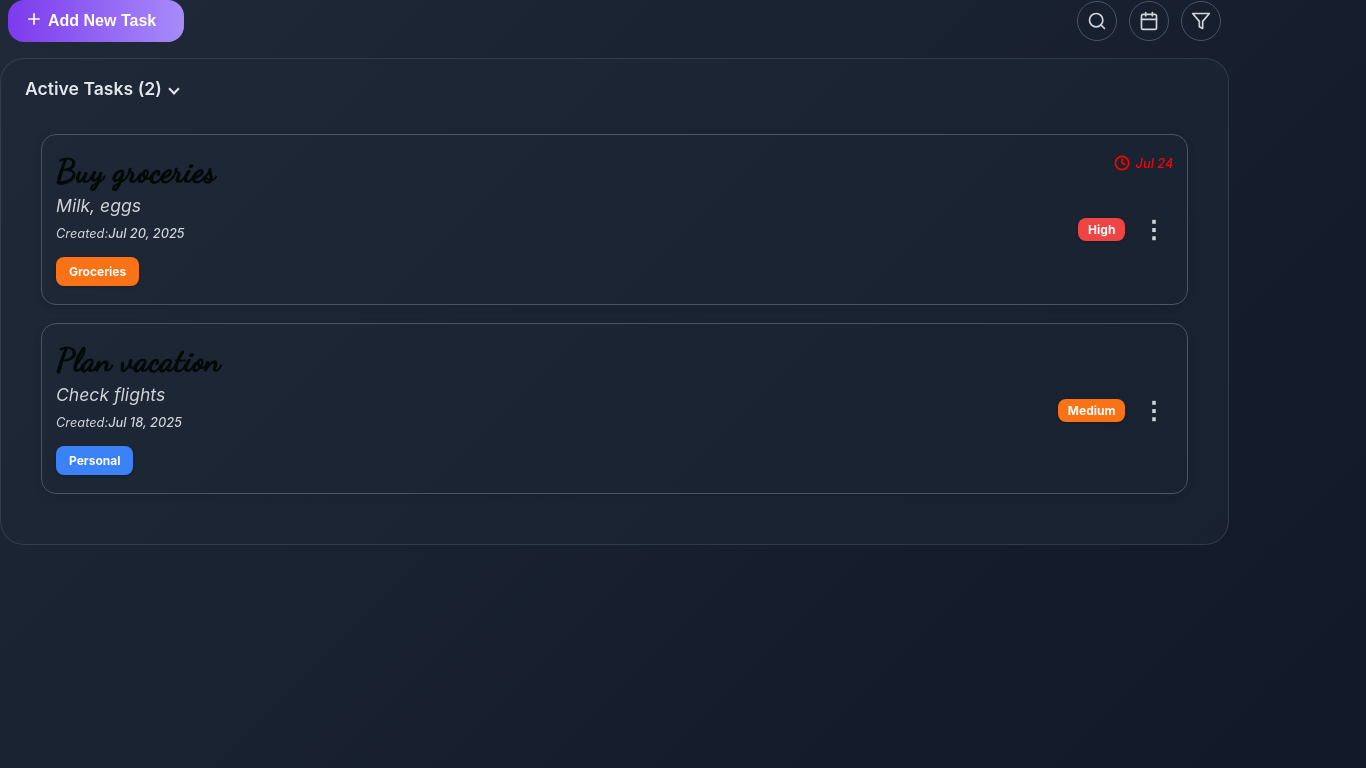
Test: TodoList › filters tasks by search term
Click the 2nd button at (1097, 21), box 1077,1 -> 1117,41
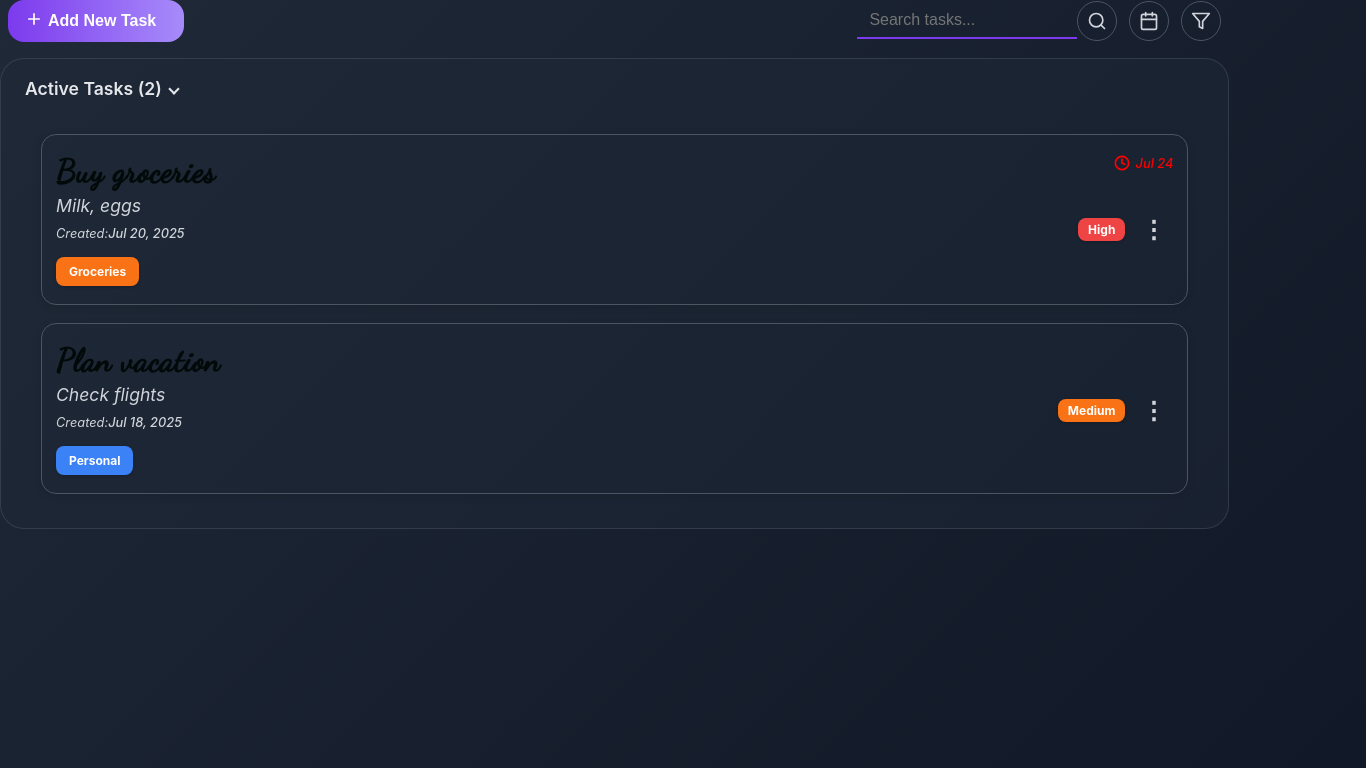
Type "vacation" into the field with placeholder "Search tasks..." at (967, 21), box 857,3 -> 1077,39
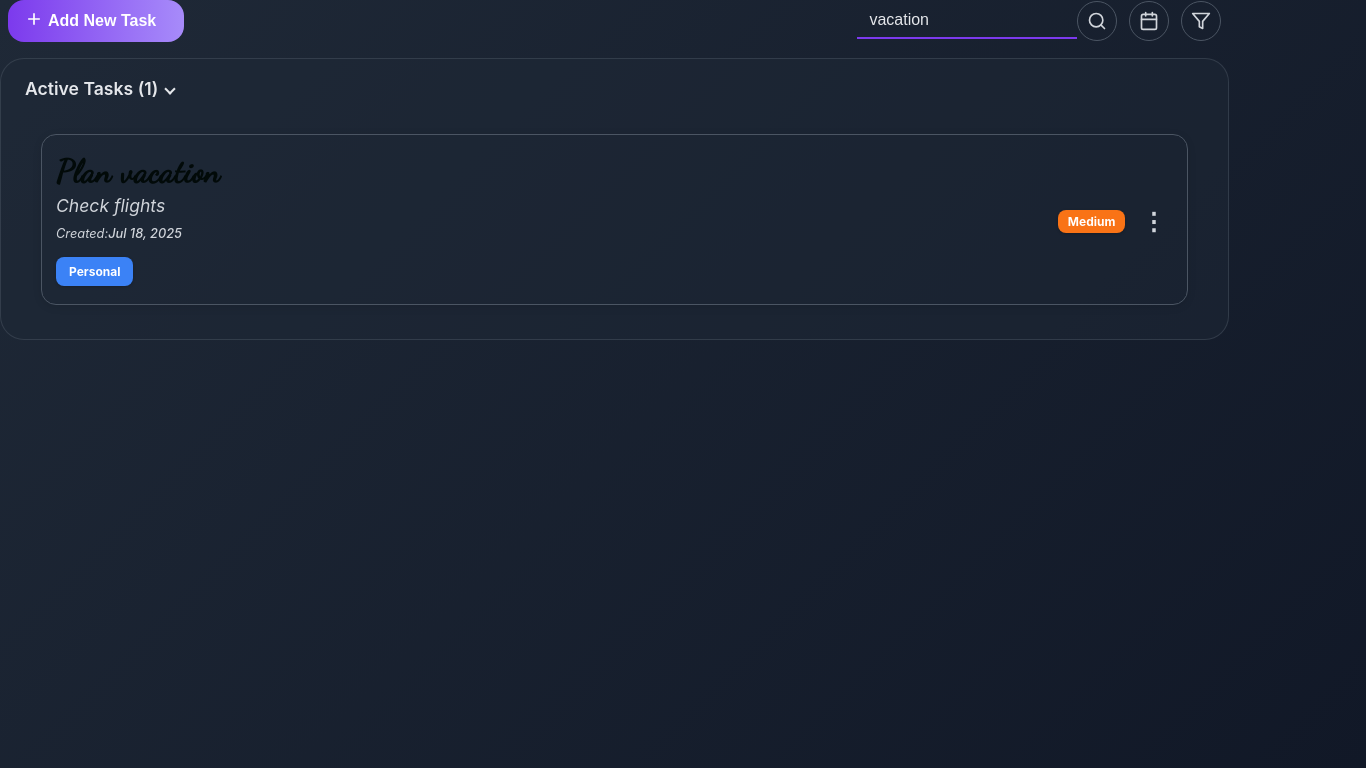
Expected: the text "Plan vacation" is shown, 56,153 -> 220,191
Expected: the text "Buy groceries" is gone
